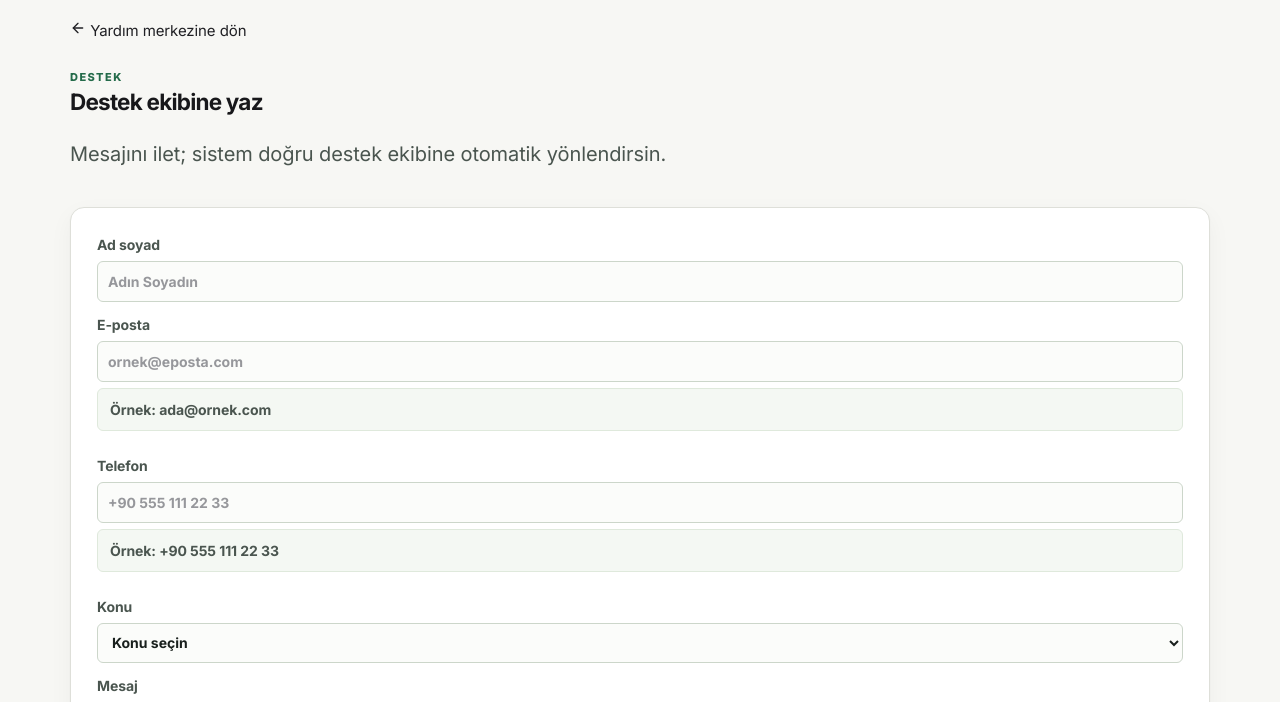
it: destek ve içerik gereksinimleri 125–141 › SSS destek mesajını ayrı inbox türü ve alfabetik konu seçimiyle gönderir
Check: the heading "Destek ekibine yaz" is shown, box [70,88,263,115]
Type "Ada Yılmaz" into the field labelled "Ad soyad" at (640, 281), box [97,261,1183,302]
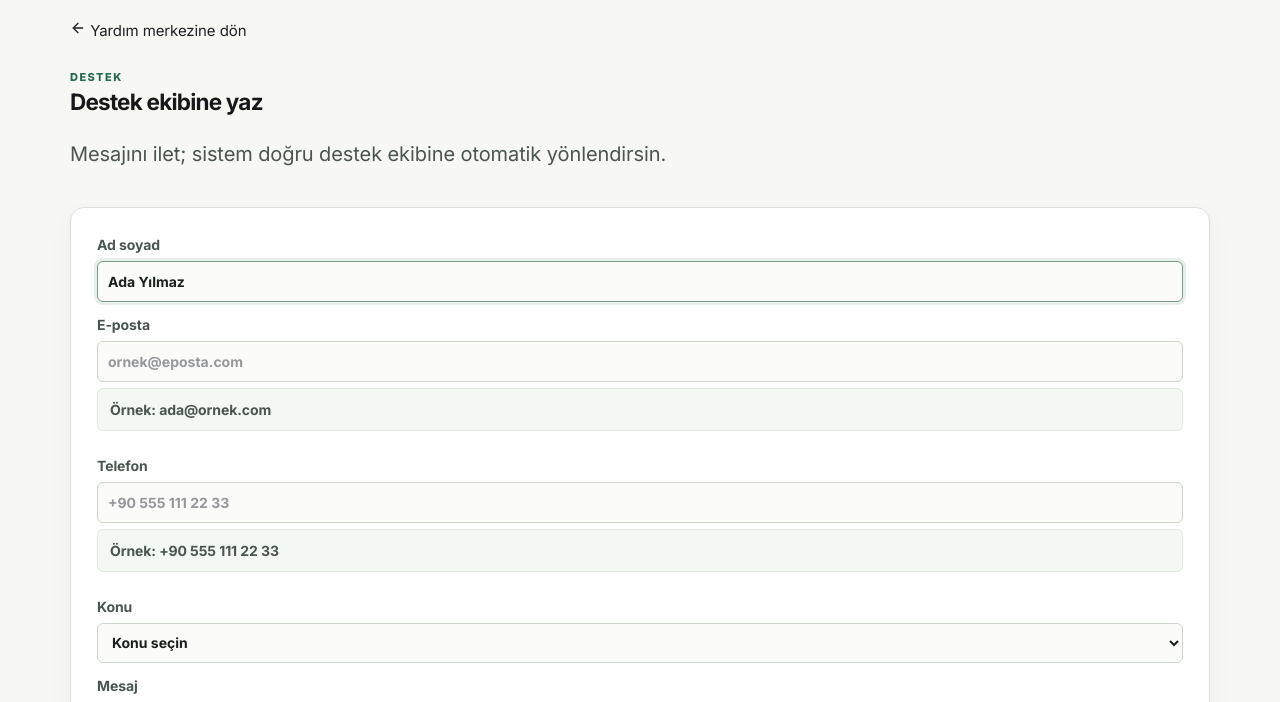
Type "ada@example.com" into the field labelled "E-posta Örnek: ada@ornek.com" at (640, 361), box [97,341,1183,382]
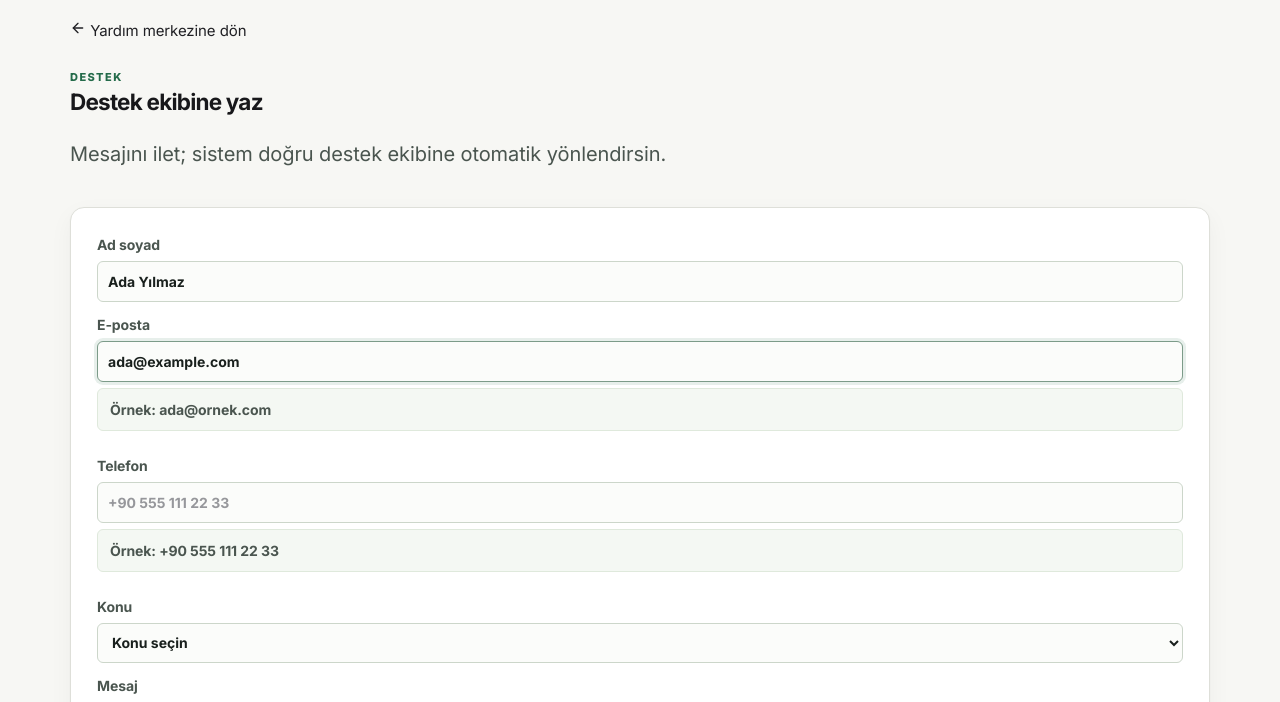
Select "Hesap" in the dropdown labelled "Konu" at (640, 643), box [97,623,1183,663]
(page scrolled)
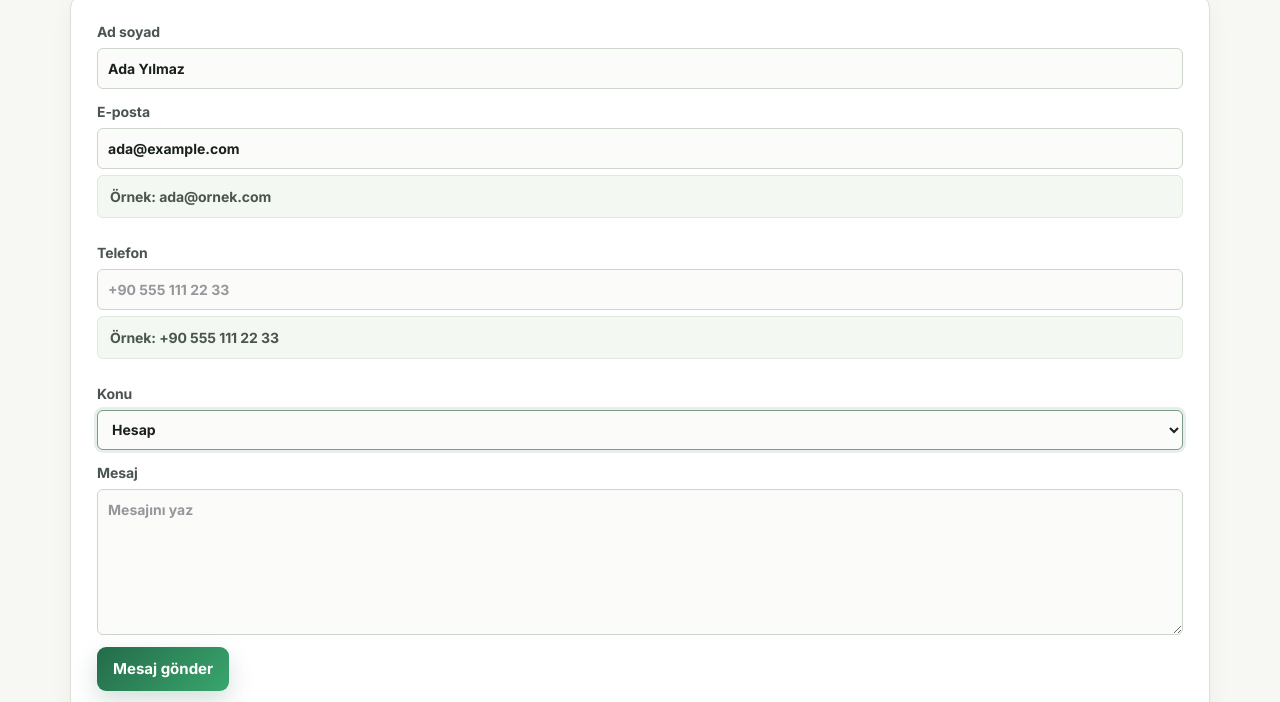
Type "Hesabım için desteğe ihtiyacım var." into the text box labelled "Mesaj" at (640, 562), box [97,489,1183,635]
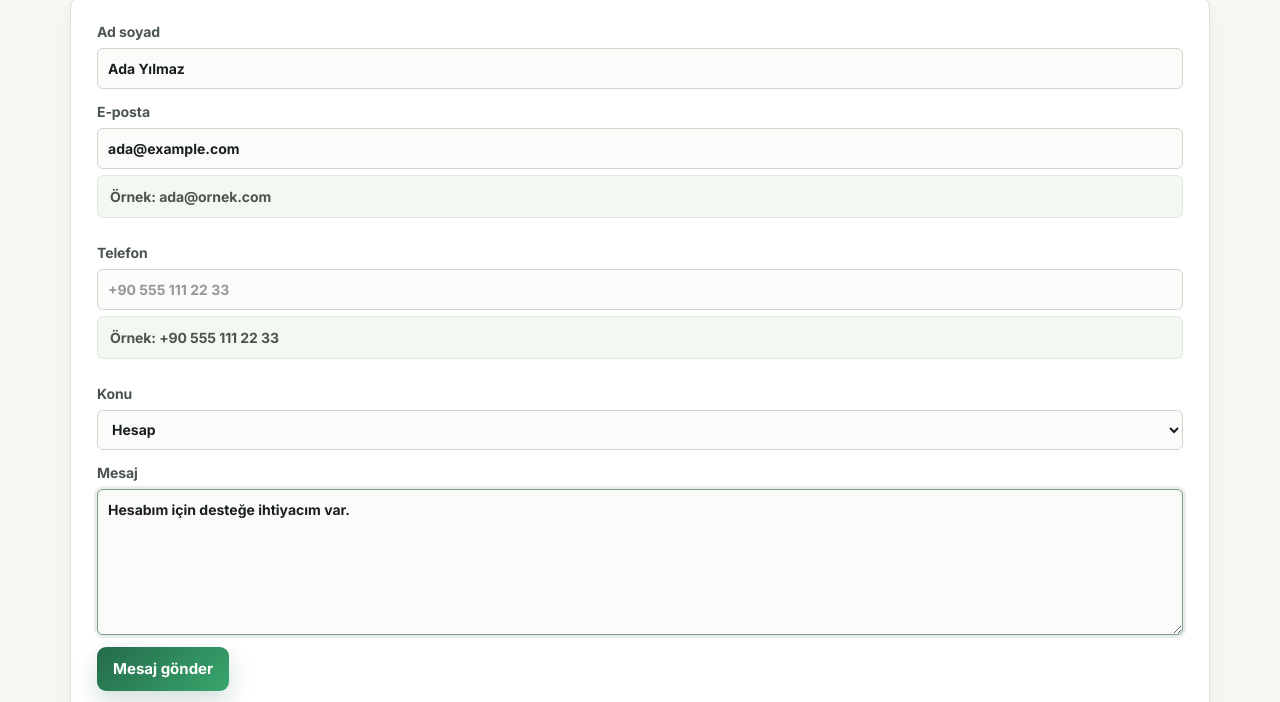
Click the button "Mesaj gönder" at (163, 669), box [97,647,229,691]
(page scrolled)
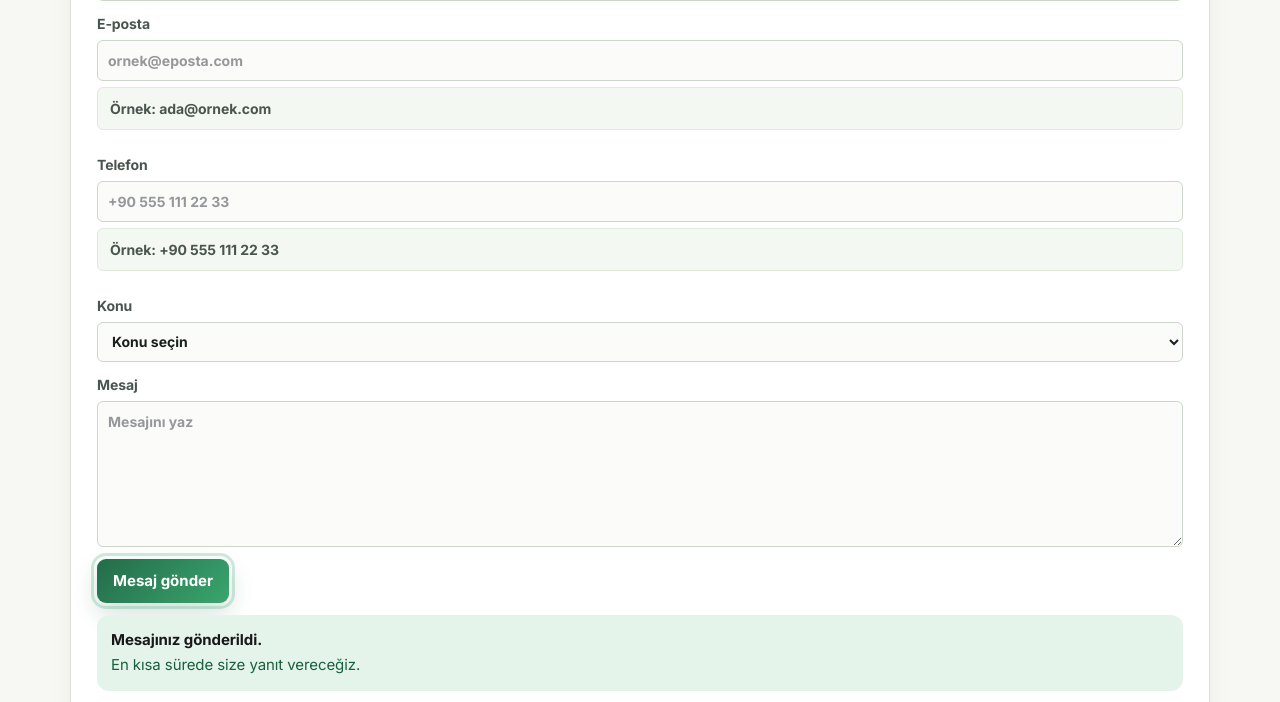
Check: the message shows "Mesajınız gönderildi.", box [111,630,262,649]
